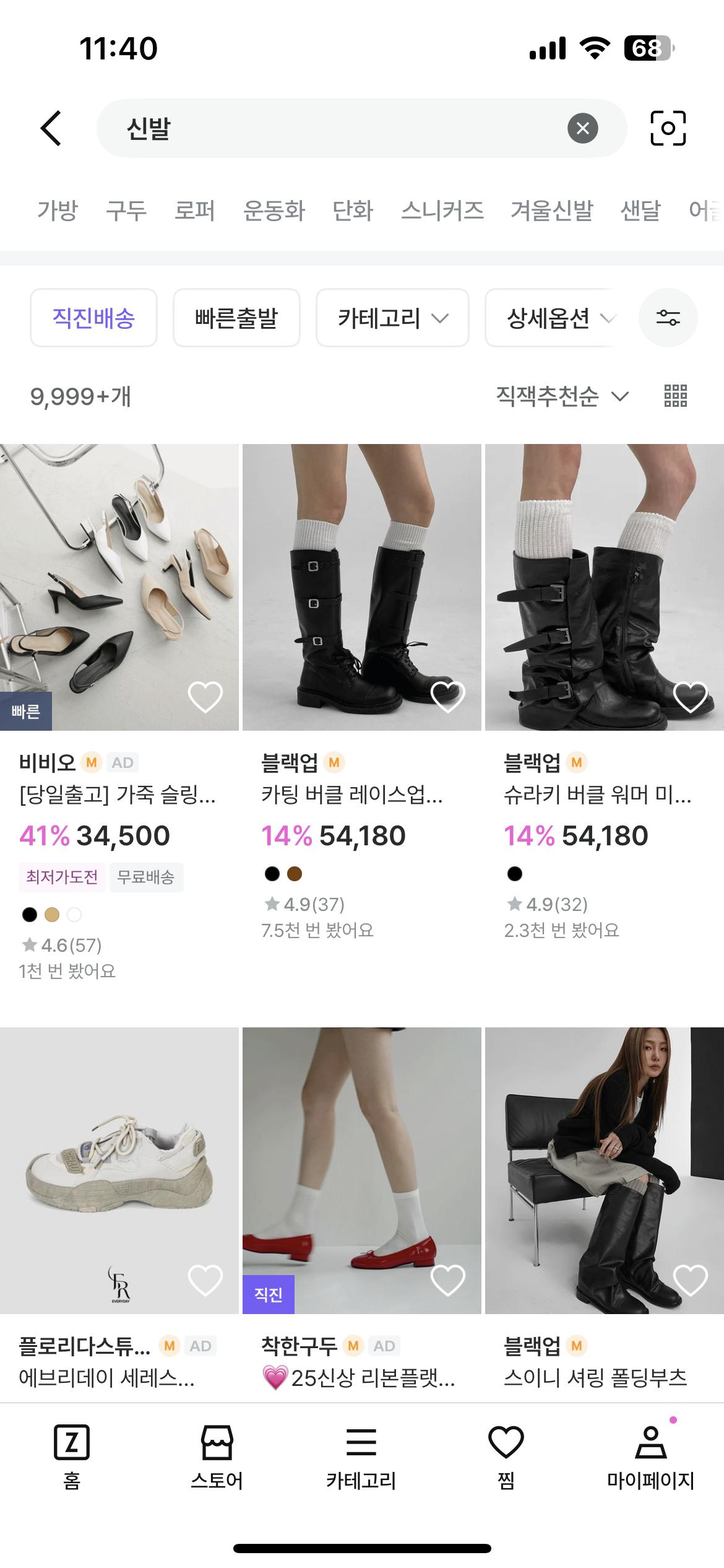button: (484, 285, 633, 350), (313, 287, 469, 349), (602, 1415, 702, 1495), (174, 287, 301, 348), (31, 289, 161, 348), (322, 1420, 403, 1497), (186, 1422, 244, 1500), (44, 1416, 98, 1496), (480, 1423, 533, 1497), (642, 286, 695, 348), (29, 192, 89, 235), (396, 198, 489, 224), (509, 200, 597, 225), (243, 198, 306, 224), (329, 197, 377, 224), (105, 197, 150, 225), (174, 197, 216, 222), (621, 201, 664, 225)
